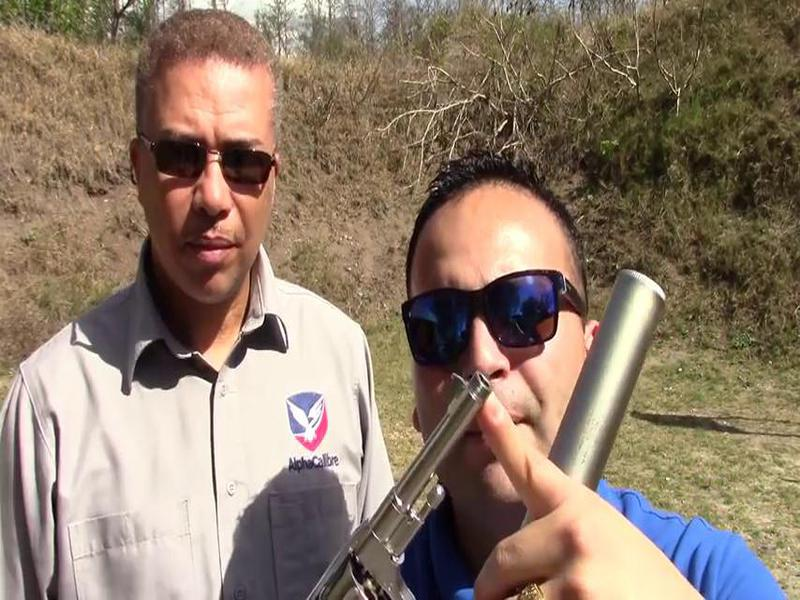Revolver: (297, 346, 523, 600)
